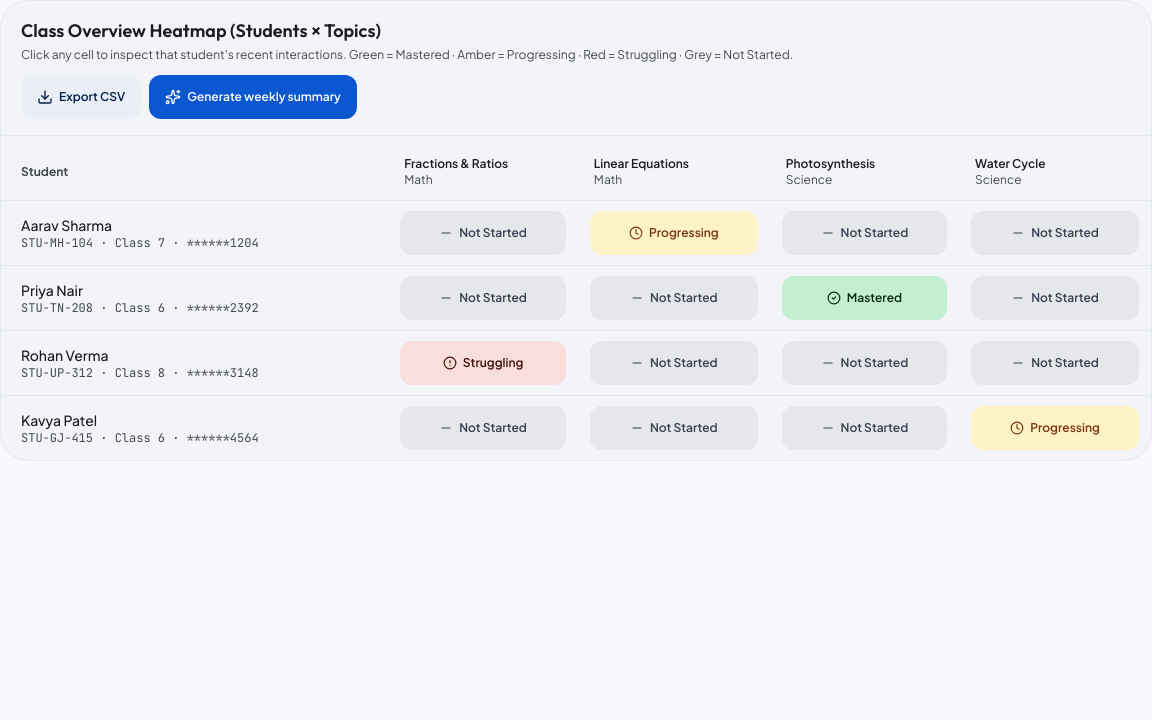
Test case: Newly split components, routing & landing stat chips › ClassHeatmap handles empty states, weekly summary errors, and closing the interactions drawer
This screenshot has width=1152, height=720.
expect the text "No topic attempts recorded yet to populate the class overview" is shown: met, box [1, 144, 1151, 460]
Click the button "Generate weekly summary" at (253, 97), box [149, 75, 357, 119]
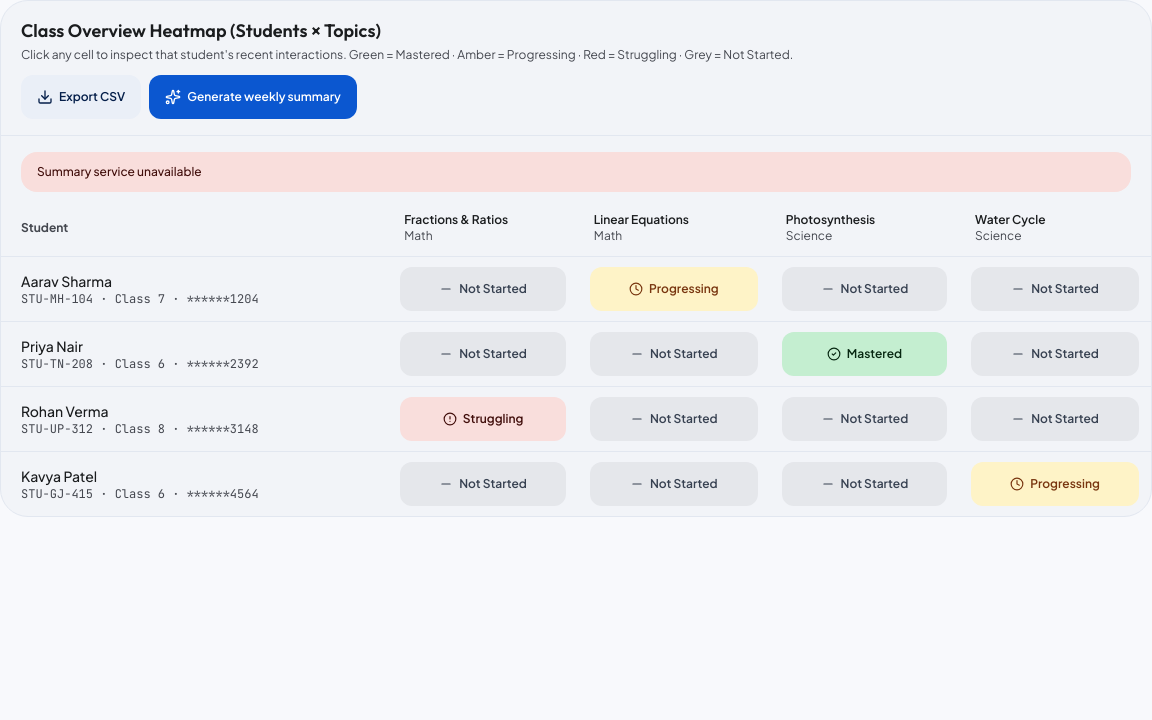
expect the text "Summary service unavailable" is shown: met, box [21, 152, 1131, 192]
Click the button with aria-label "Inspect Priya Nair on Photosynthesis: Mastered" at (864, 354), box [782, 332, 947, 376]
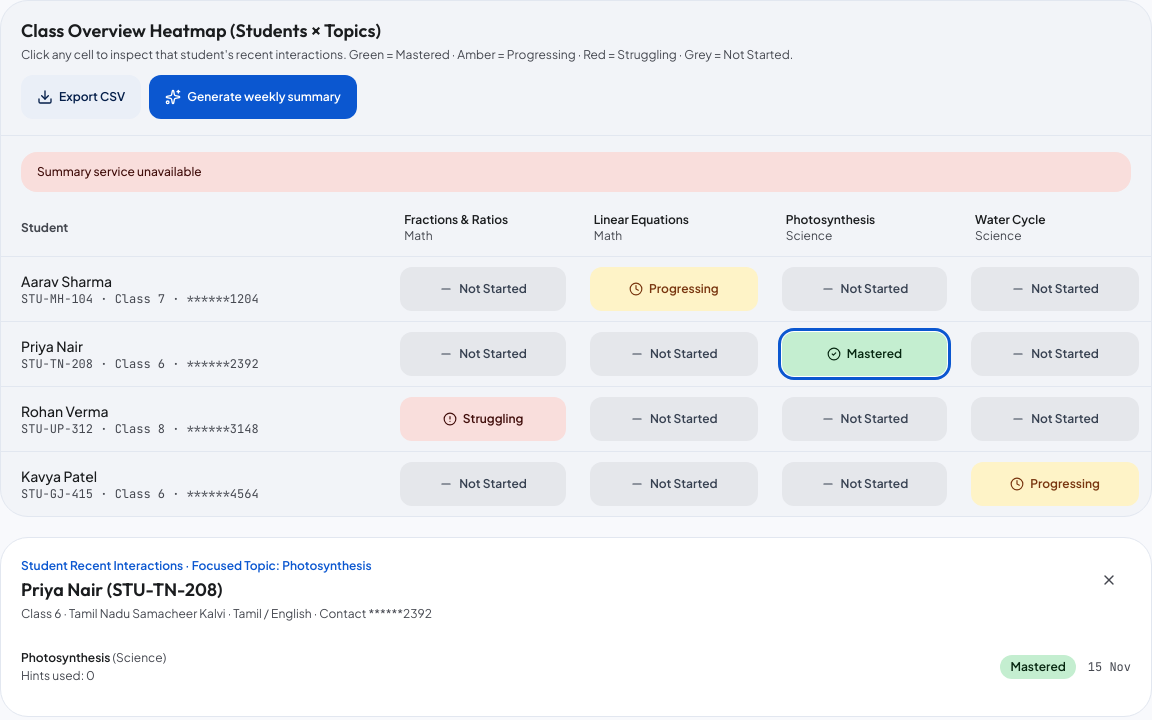
expect the text "Student Recent Interactions · Focused Topic: Photosynthesis" is shown: met, box [21, 558, 432, 574]
Click the button named "Close student interactions panel" at (1109, 580), box [1087, 558, 1131, 602]
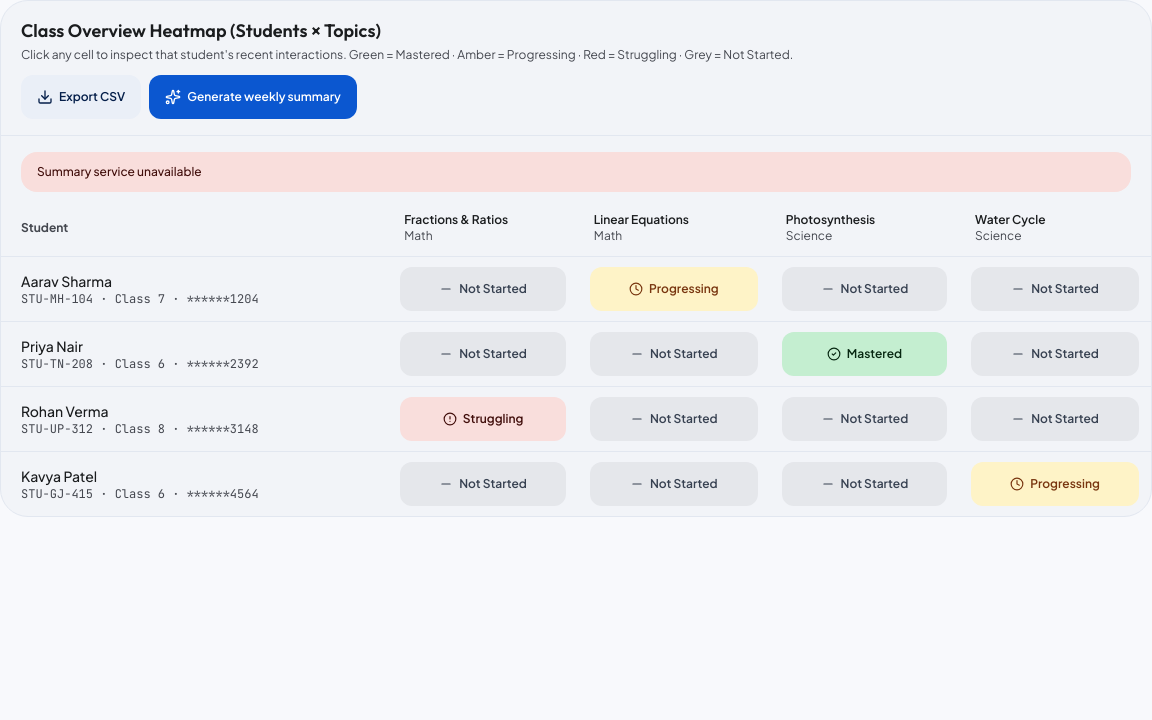
expect the text "Student Recent Interactions" is gone: met
